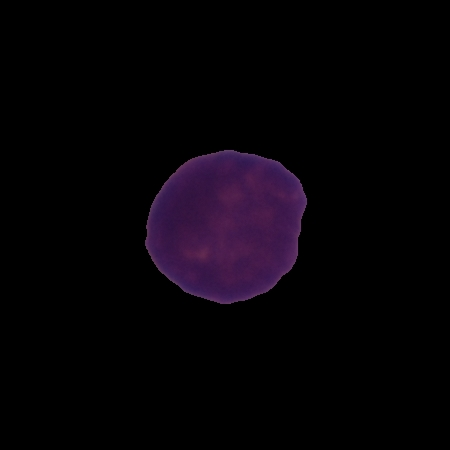HEM: (141, 146, 309, 307)
